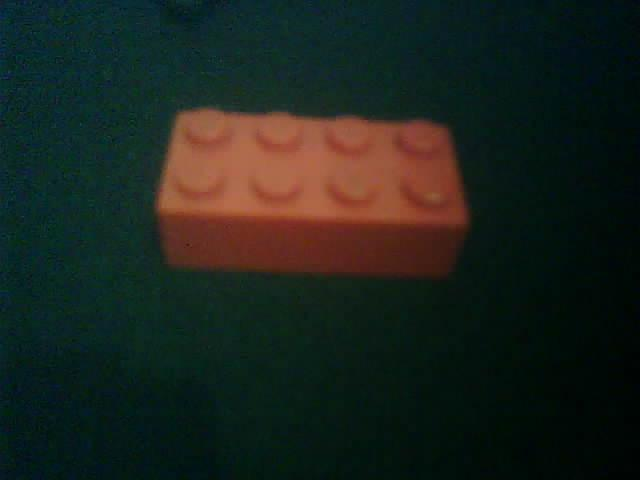lego: (154, 104, 469, 278)
